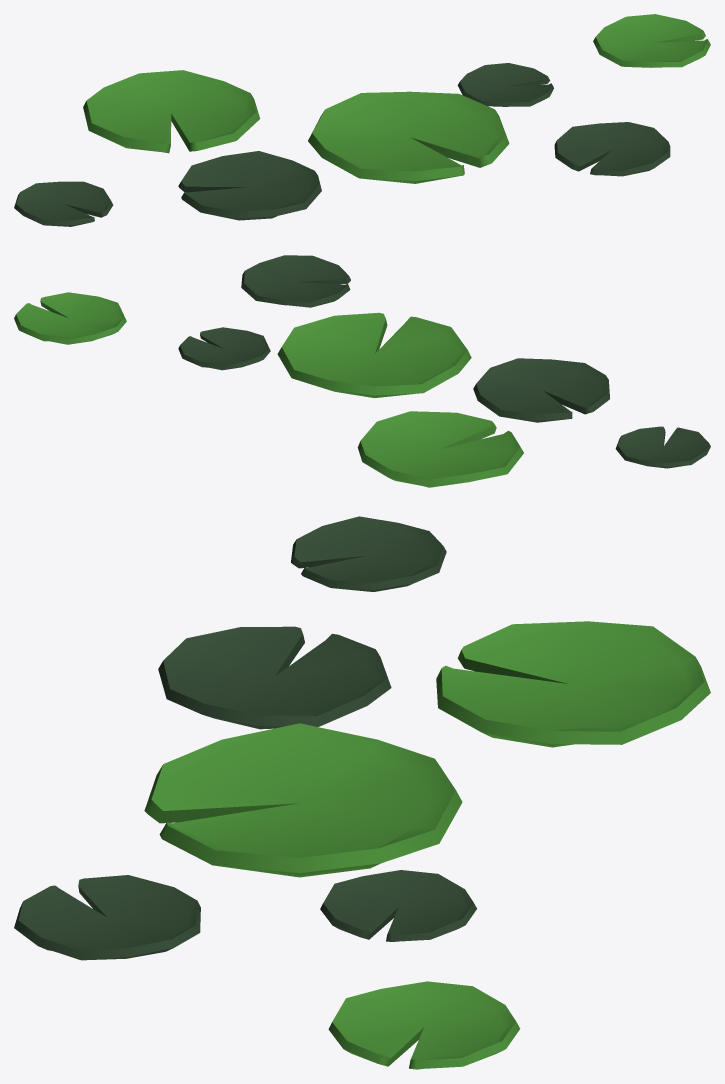
The model's file is waterlilies.fbx.
The picture shows the model from 3 angles, top to bottom: view 1: azimuth 30°, elevation 25°; view 2: azimuth 150°, elevation 25°; view 3: azimuth 270°, elevation 25°; orthographic projection. The views are drawn at different scales.
Parts seen in each view (by area): view 1: waterlilies, waterlily_single; view 2: waterlilies, waterlily_single; view 3: waterlilies, waterlily_single.
Boxes of the visible parts, left/top/right/bottom form: waterlilies: left=14, top=14, right=710, bottom=226; waterlily_single: left=308, top=91, right=509, bottom=183; waterlilies: left=14, top=255, right=710, bottom=487; waterlily_single: left=277, top=312, right=471, bottom=398; waterlilies: left=14, top=516, right=710, bottom=1069; waterlily_single: left=144, top=723, right=462, bottom=877.
Bounding box in the file's own units: 255 × 138 × 6.25.
